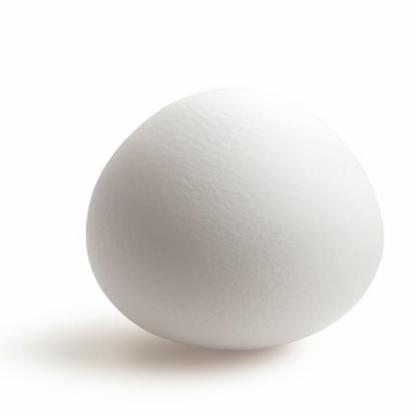egg: (62, 49, 402, 370)
